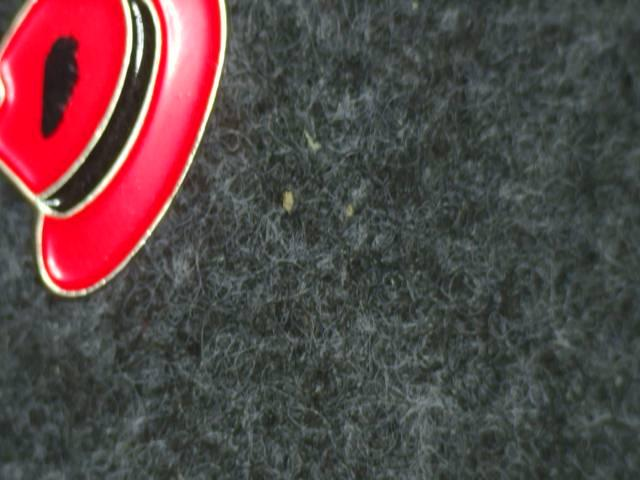Red-Hat: (0, 0, 245, 330)
Scratch: (24, 25, 101, 146)
